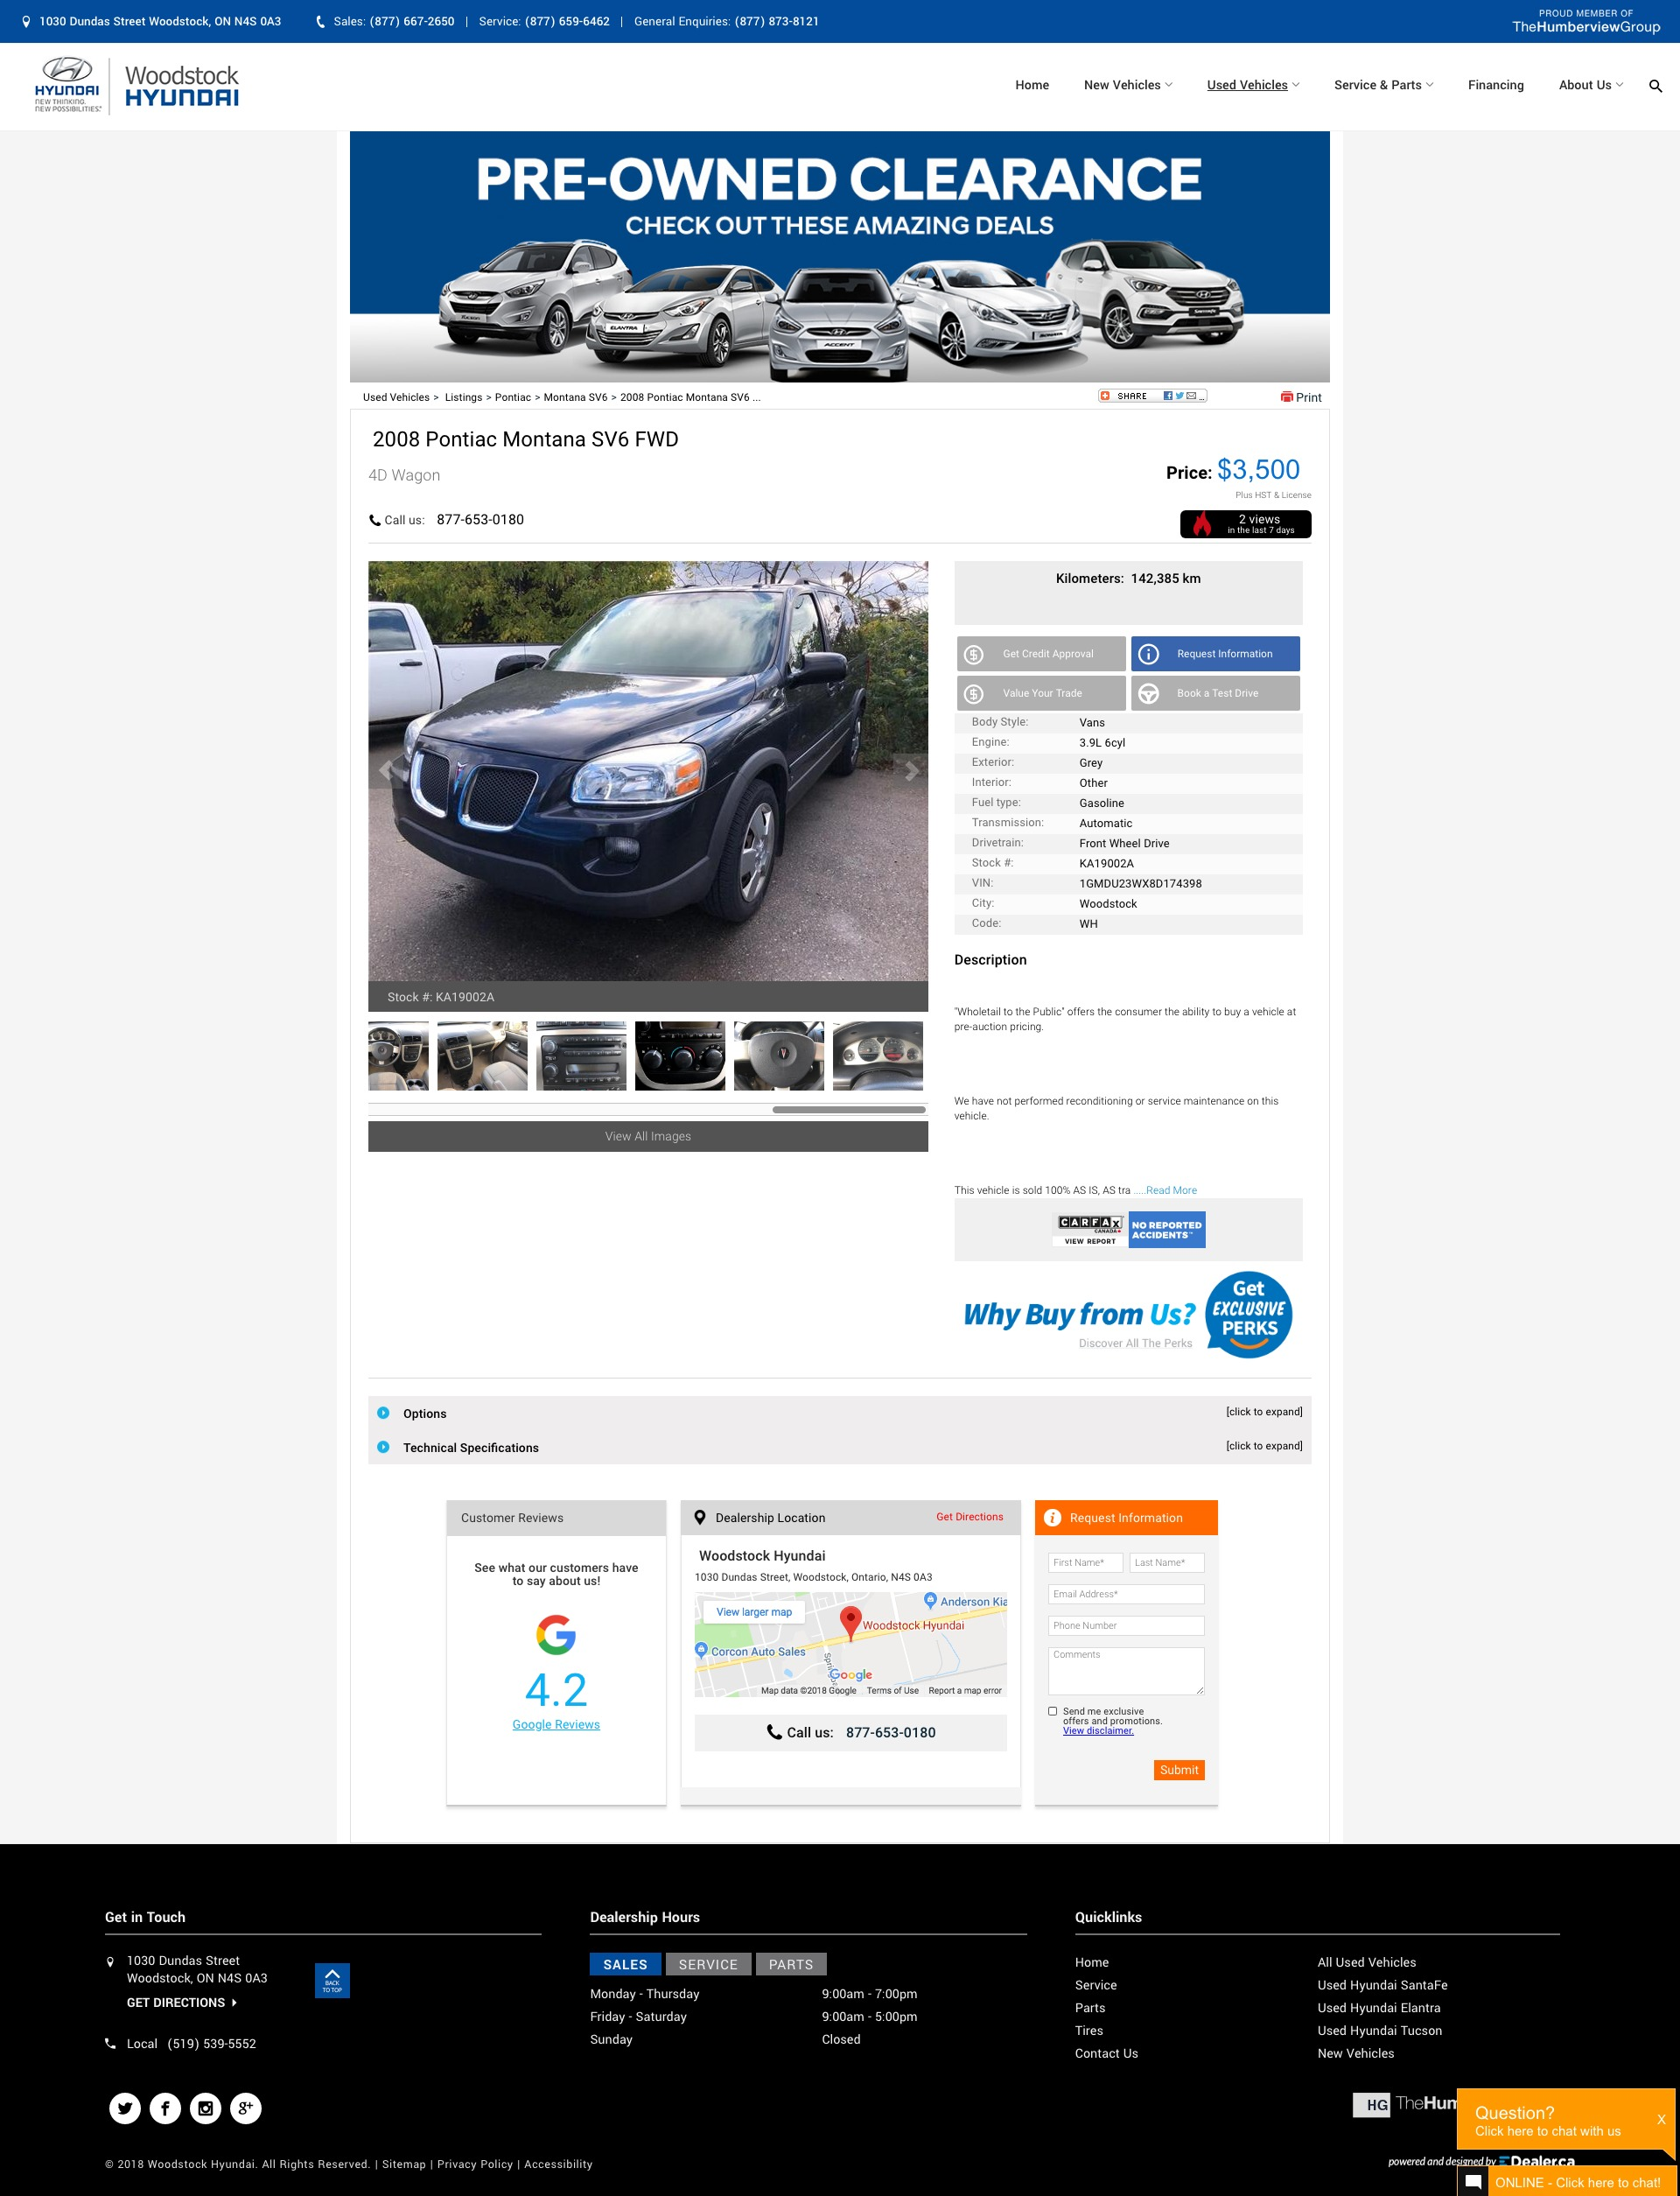car: (893, 754, 932, 787)
